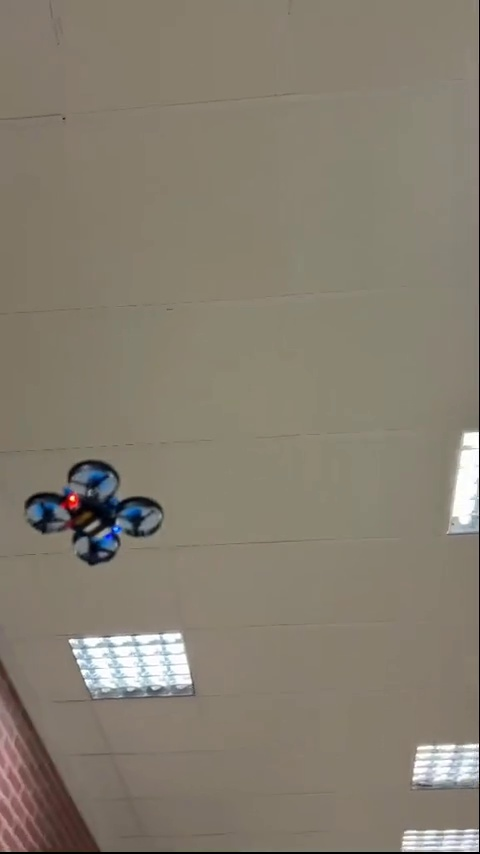drone: (27, 458, 168, 565)
